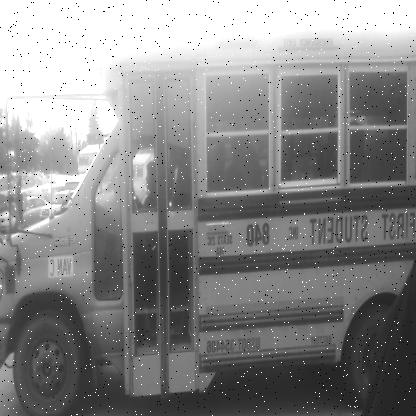Car: (1, 194, 50, 235)
